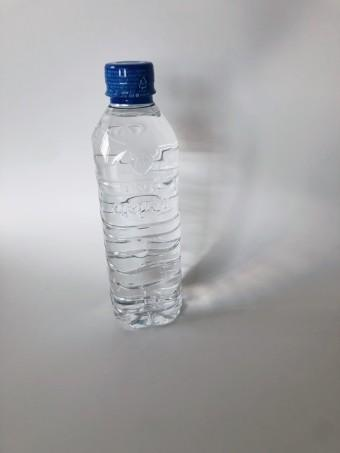pet: (88, 47, 203, 356)
